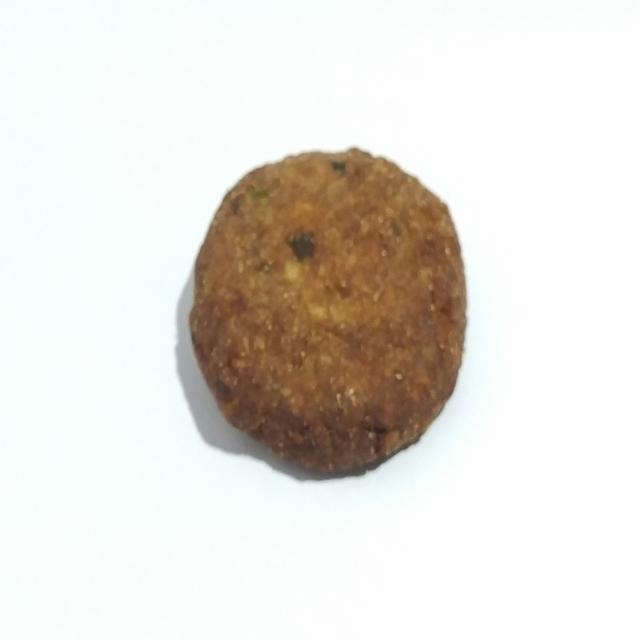Food: (184, 143, 470, 482)
